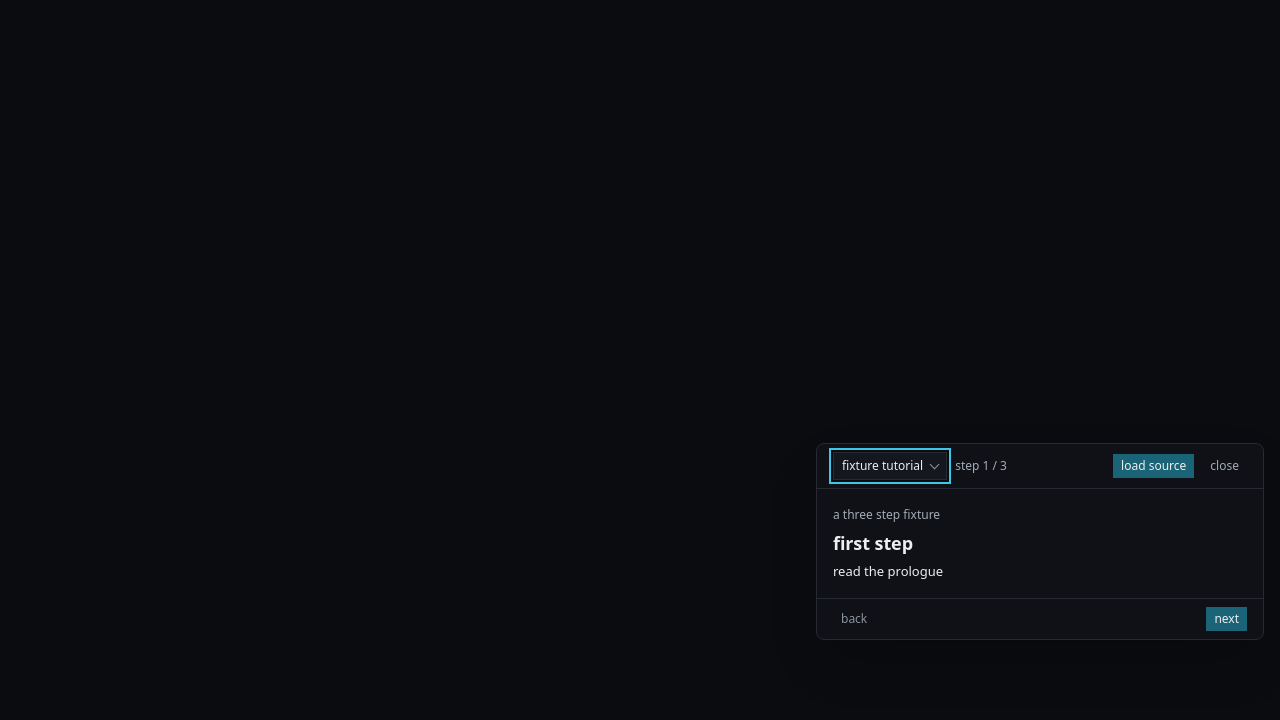
TutorialRunner step navigation › clamps at both ends: back disabled on the first step, next on the last
Expected: the button "back" is disabled, [833,607,875,631]
Click the button "next". click: point(1227, 619)
box: [1206,607,1247,631]
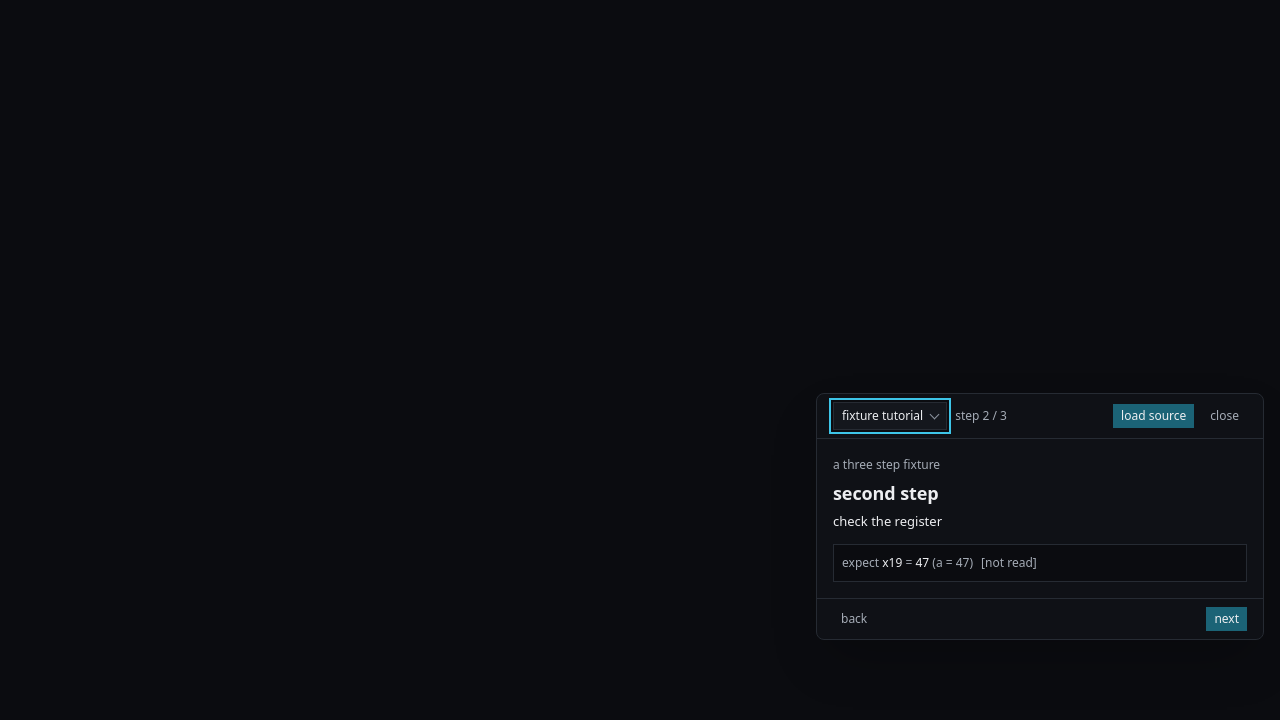
Click the button "next". click: point(1227, 619)
box: [1206,607,1247,631]
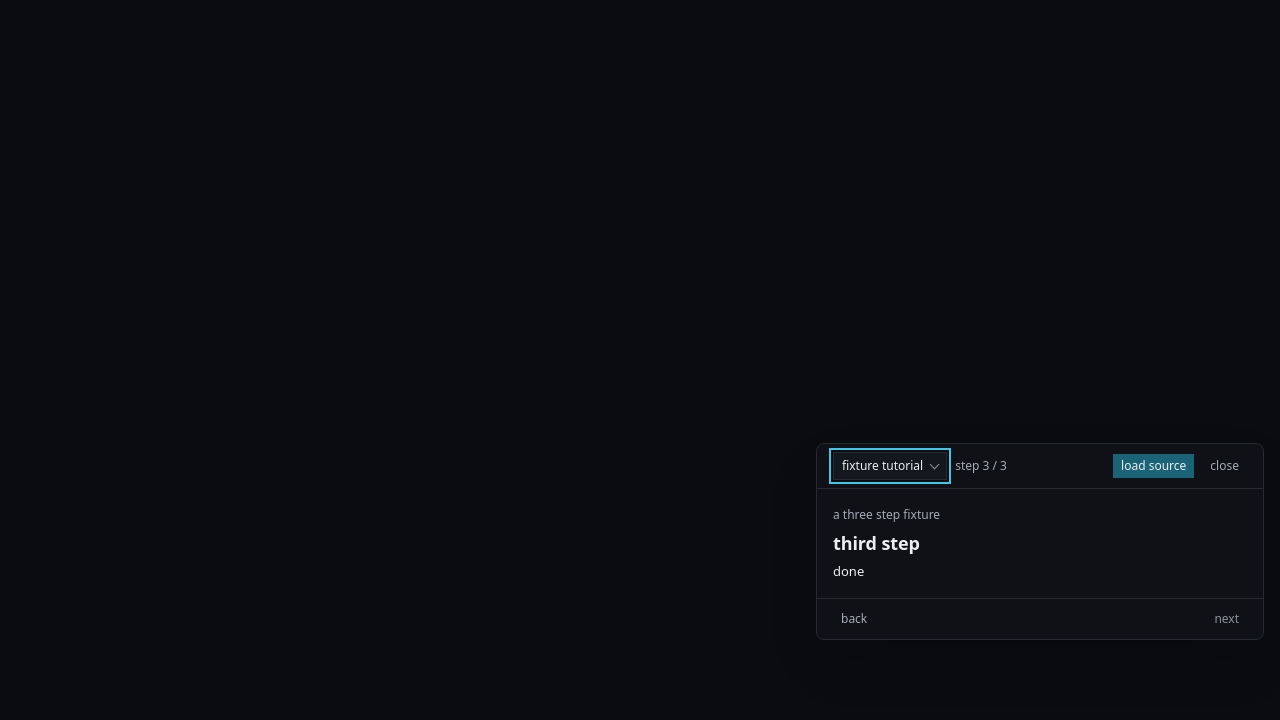
Expected: the button "back" is enabled
Expected: the text "step 3 / 3" is shown, [955,457,1007,475]
Expected: the button "next" is disabled, [1206,607,1247,631]
Click the button "back". click: point(854, 619)
box: [833,607,875,631]
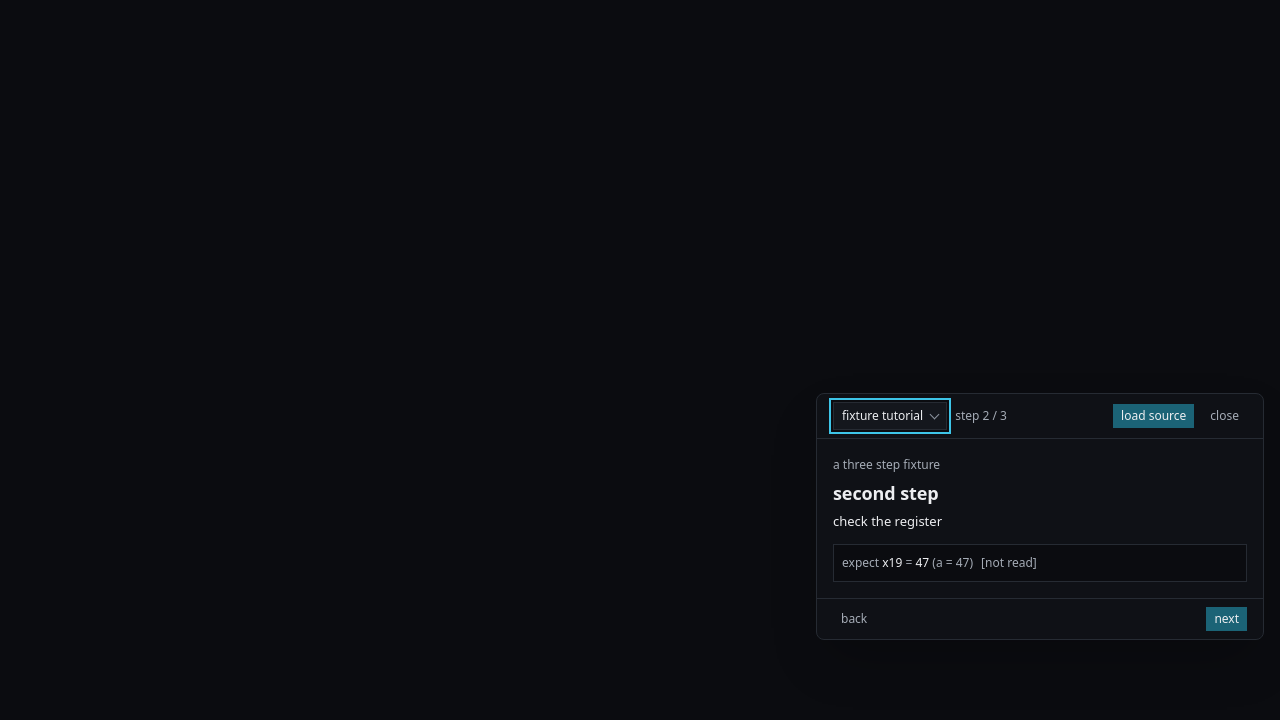
Expected: the text "step 2 / 3" is shown, [955,407,1007,425]
